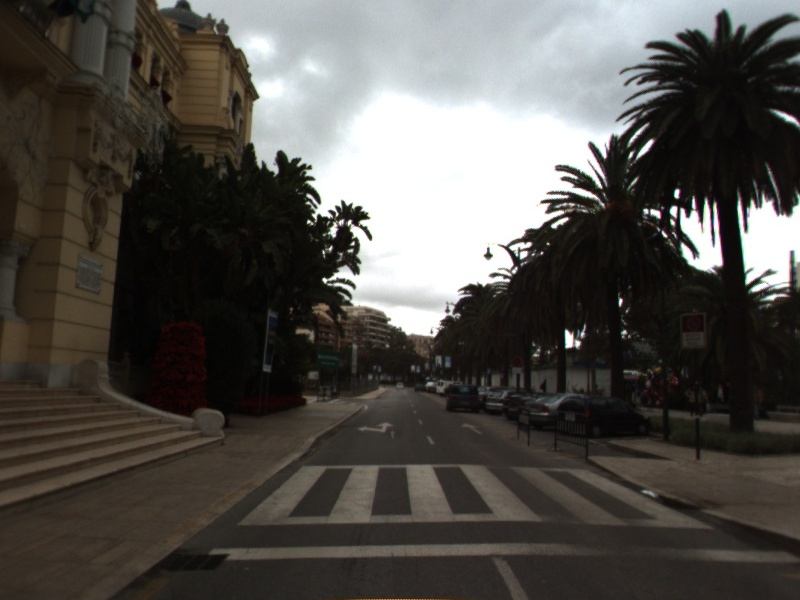STRAIGHT: (459, 420, 485, 436)
STRAIGHT_LEFT: (355, 420, 396, 434)
